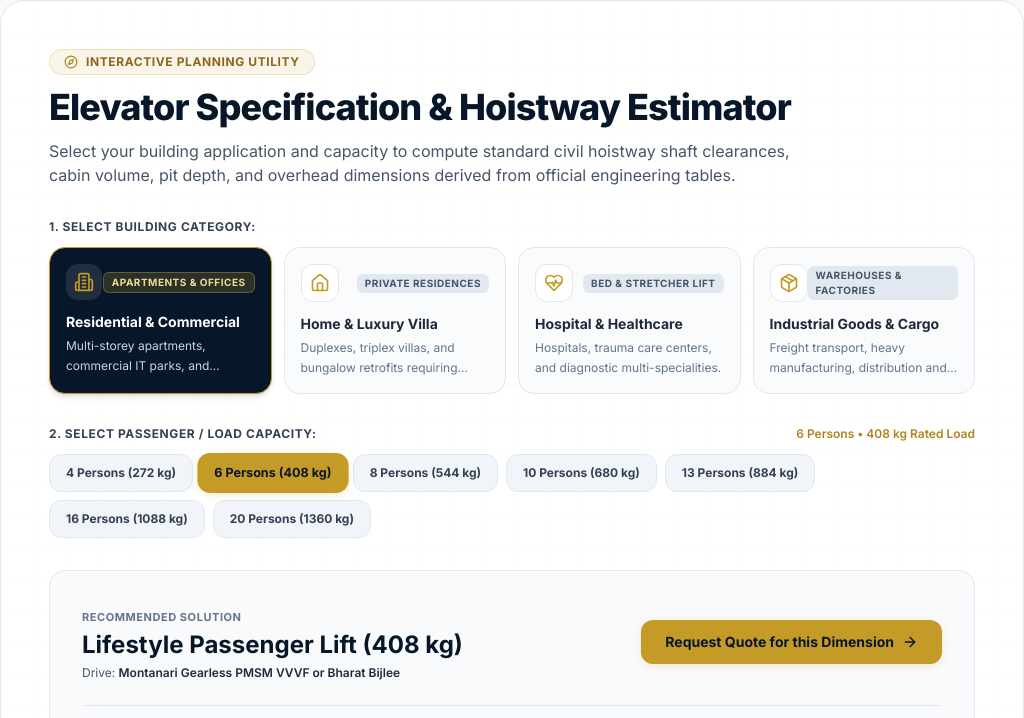
Test: HoistwayCalculator Component › switches category to Hospital & Healthcare and updates specs
Click the button "Hospital & Healthcare": (629, 320) [518,247,740,394]
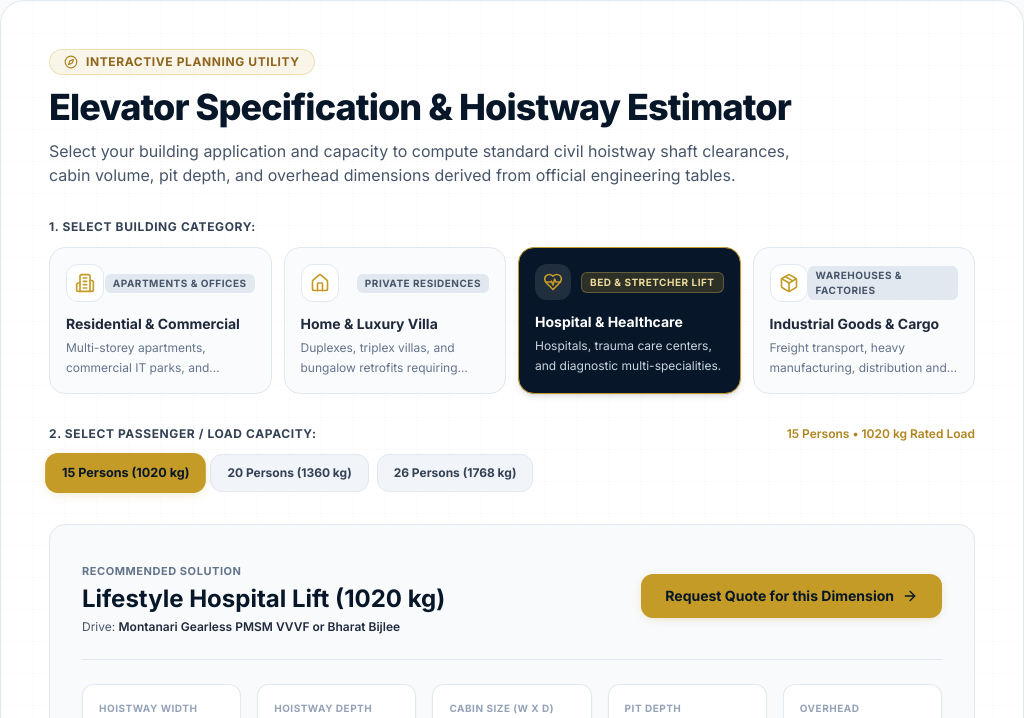
Check: the heading "Lifestyle Hospital Lift (1020 kg)" is shown, box [82,583,445,615]
